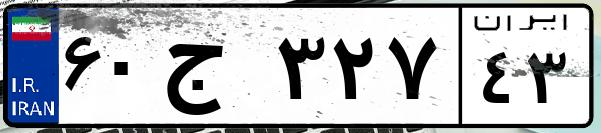0: (110, 28, 158, 98)
2: (330, 28, 385, 110)
3: (270, 28, 330, 110), (525, 38, 570, 115)
4: (475, 38, 525, 113)
6: (57, 26, 110, 100)
7: (385, 28, 445, 110)
ج: (158, 20, 270, 120)
